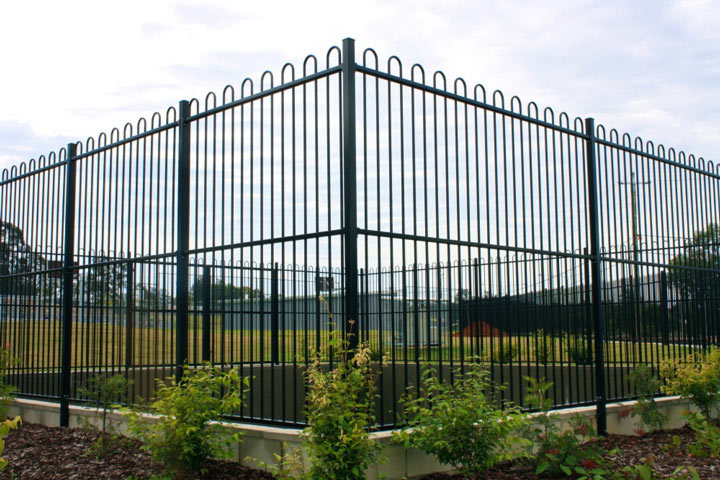Valla: (356, 58, 718, 428), (6, 89, 343, 426)
